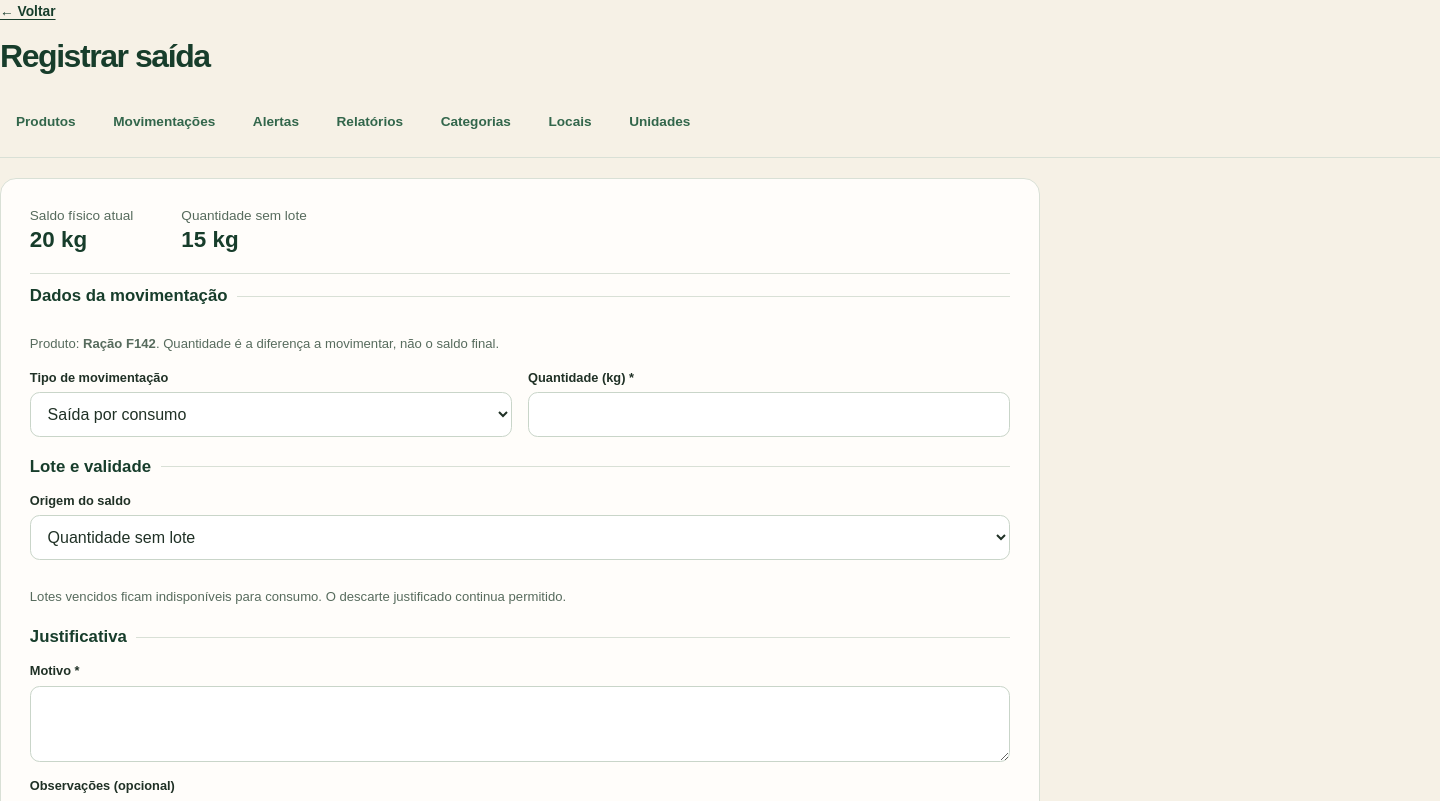
Test: bloqueia consumo vencido e permite descarte por lote
Step 1. Type "1" into the field labelled "Quantidade (kg) *" → (769, 414), box [528, 392, 1010, 437]
Step 2. Type "Conferência física" into the text box labelled "Motivo *" → (520, 724), box [30, 686, 1010, 762]
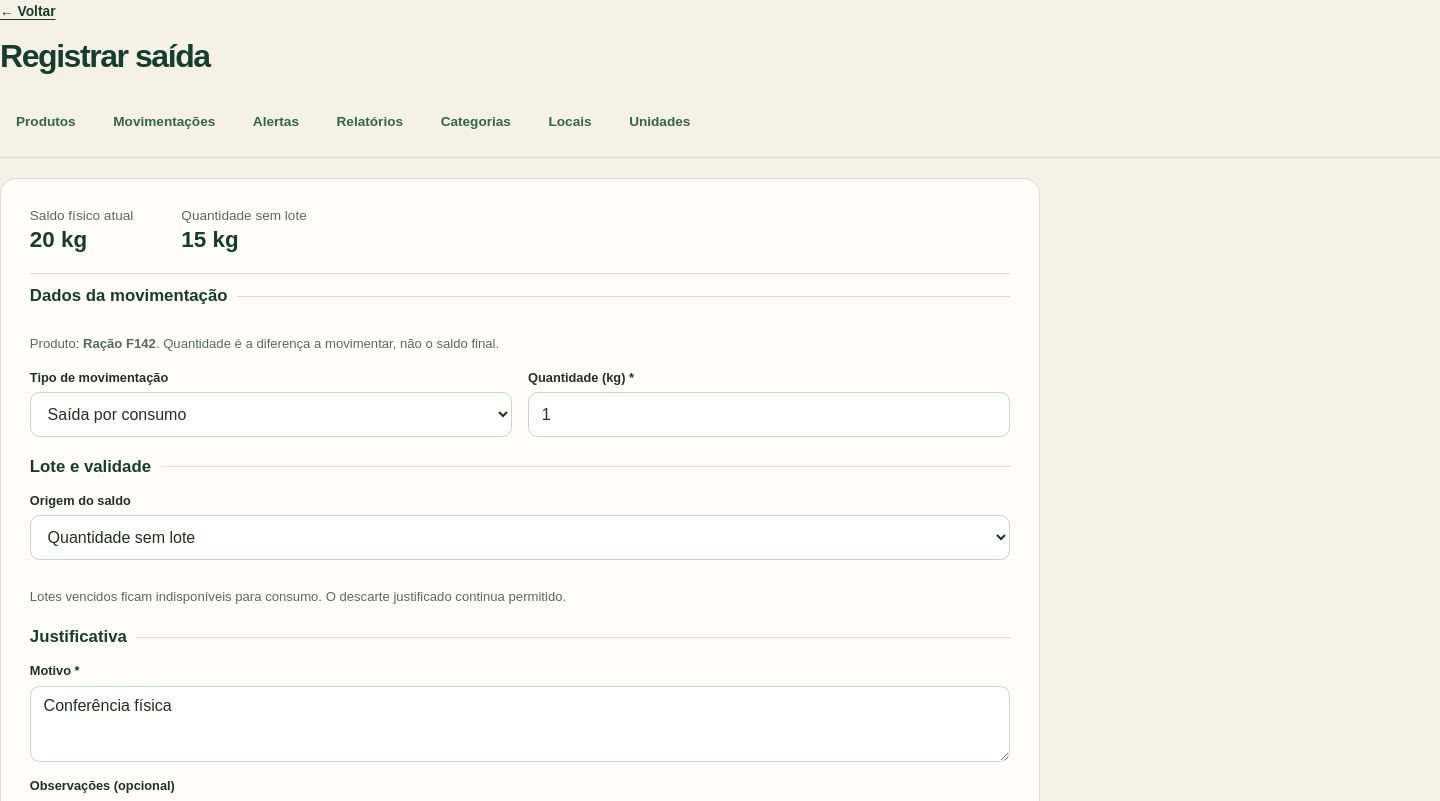
Step 3. Select "Selecionar lote registrado" in the dropdown labelled "Origem do saldo" → (520, 538), box [30, 515, 1010, 560]
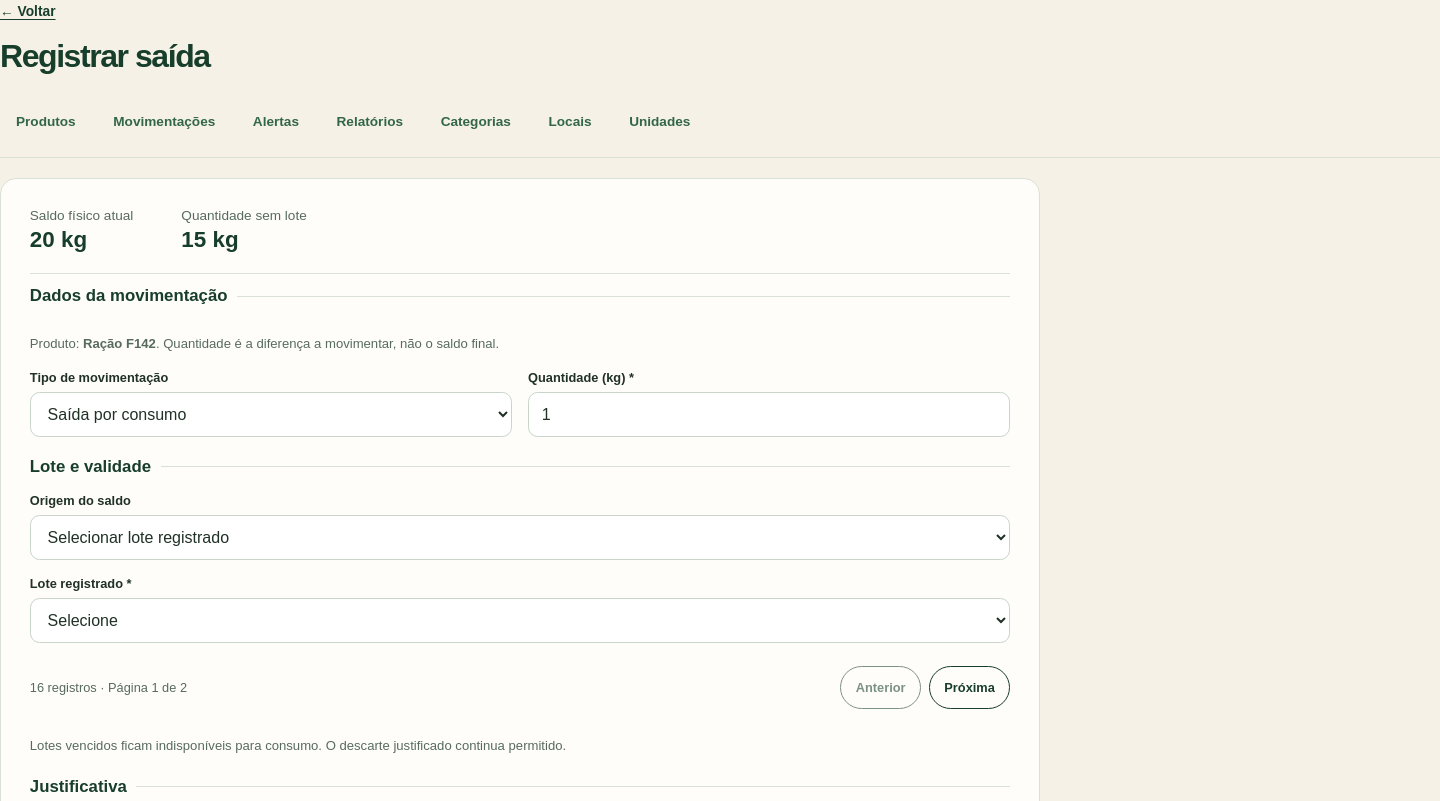
Expected: the dropdown labelled "Lote registrado *" is shown, [30, 598, 1010, 643]
Step 4. Select "Saída por descarte" in the dropdown labelled "Tipo de movimentação" → (271, 414), box [30, 392, 512, 437]
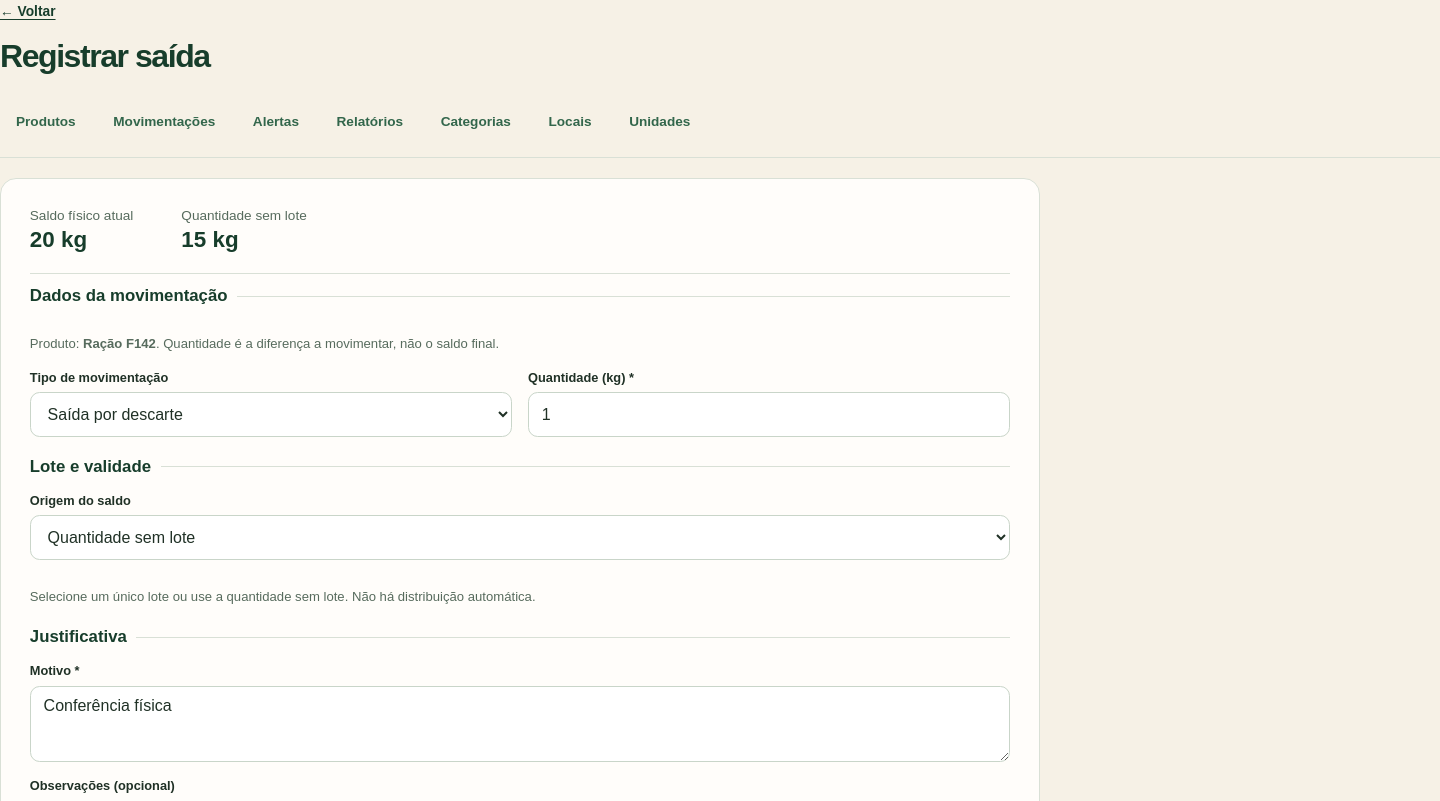
Step 5. Select "Selecionar lote registrado" in the dropdown labelled "Origem do saldo" → (520, 538), box [30, 515, 1010, 560]
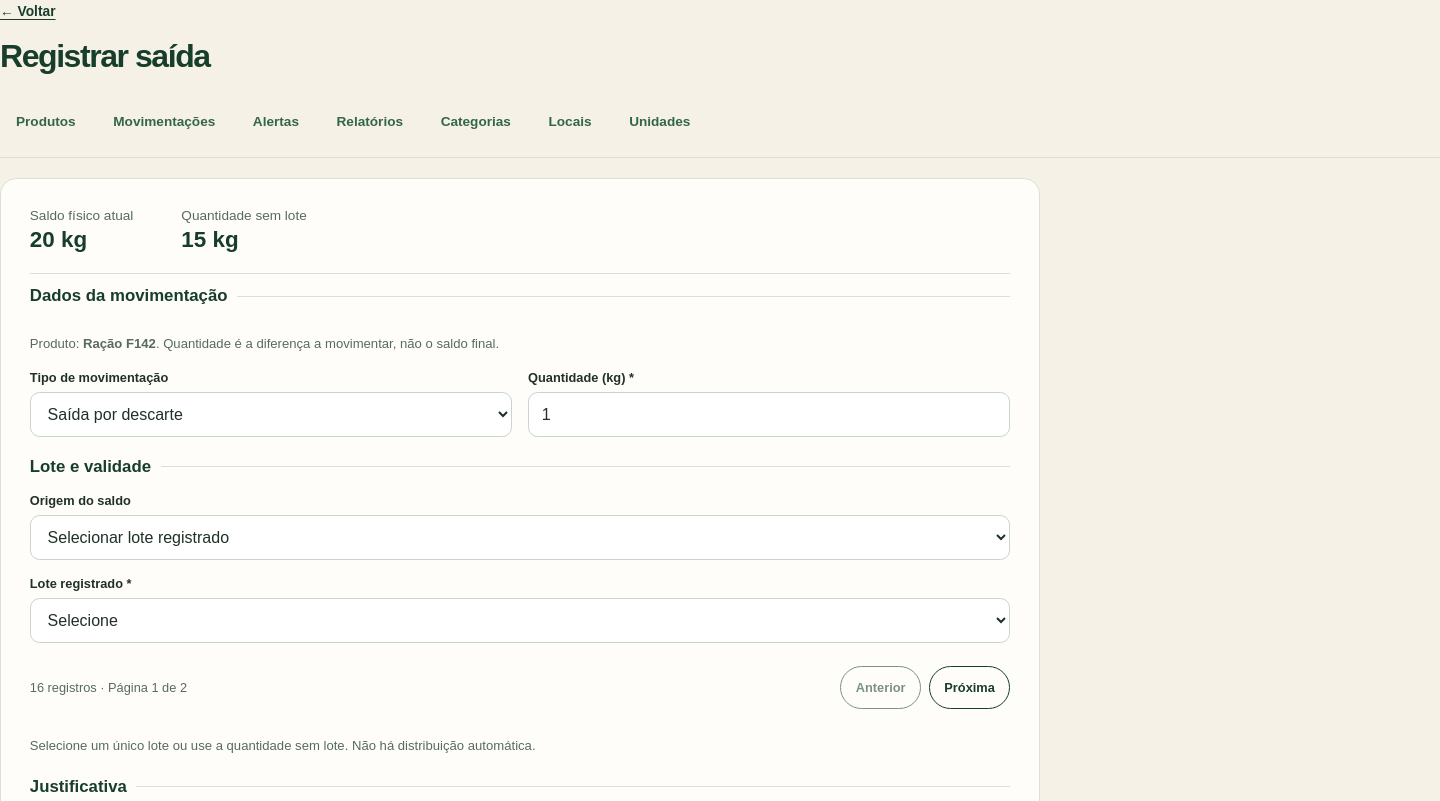
Step 6. Select "VENCIDO · 2 kg · 01/01/2026 · vencido" in the dropdown labelled "Lote registrado *" → (520, 620), box [30, 598, 1010, 643]
(page scrolled)
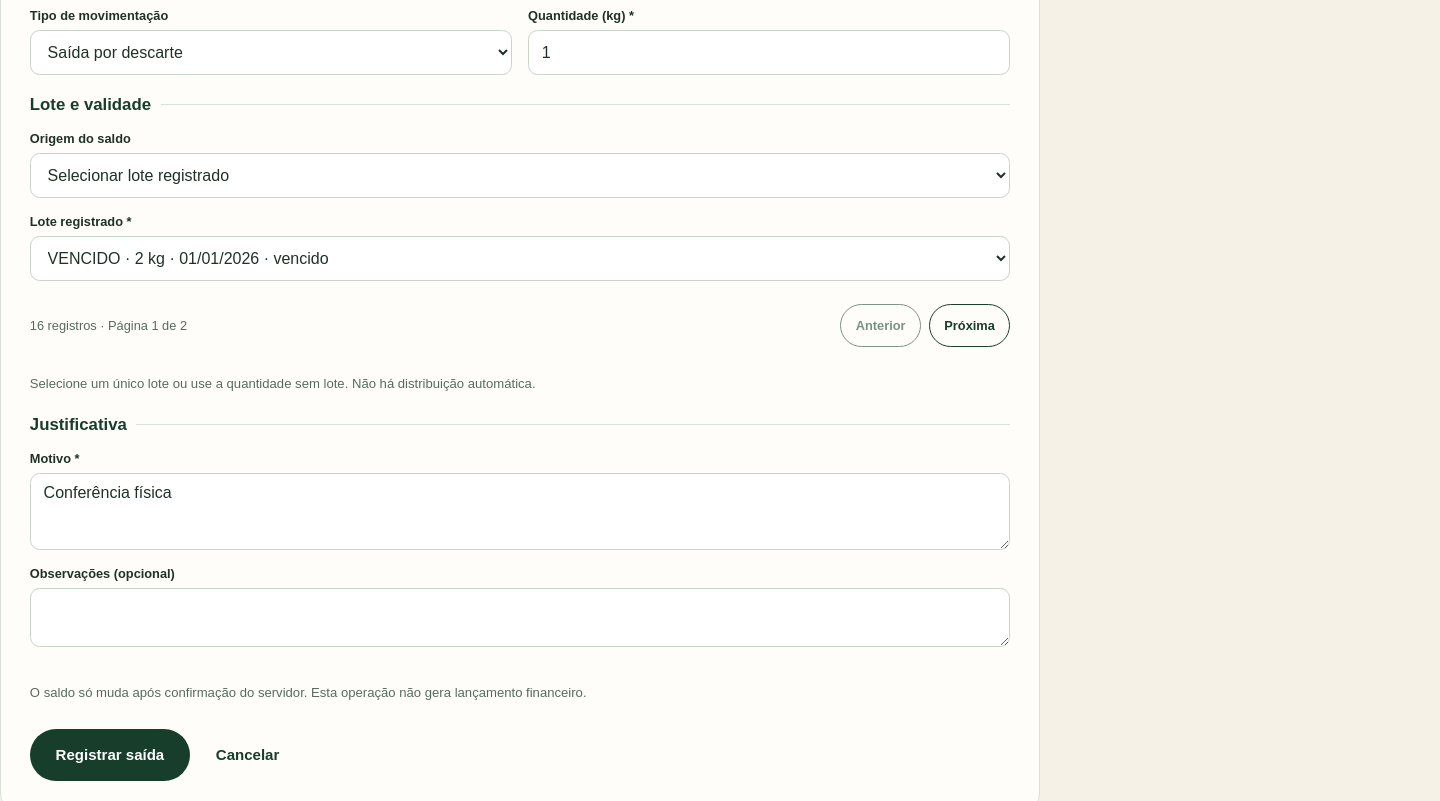
Step 7. Click the button "Registrar saída" → (110, 755), box [30, 729, 190, 781]
(page scrolled)
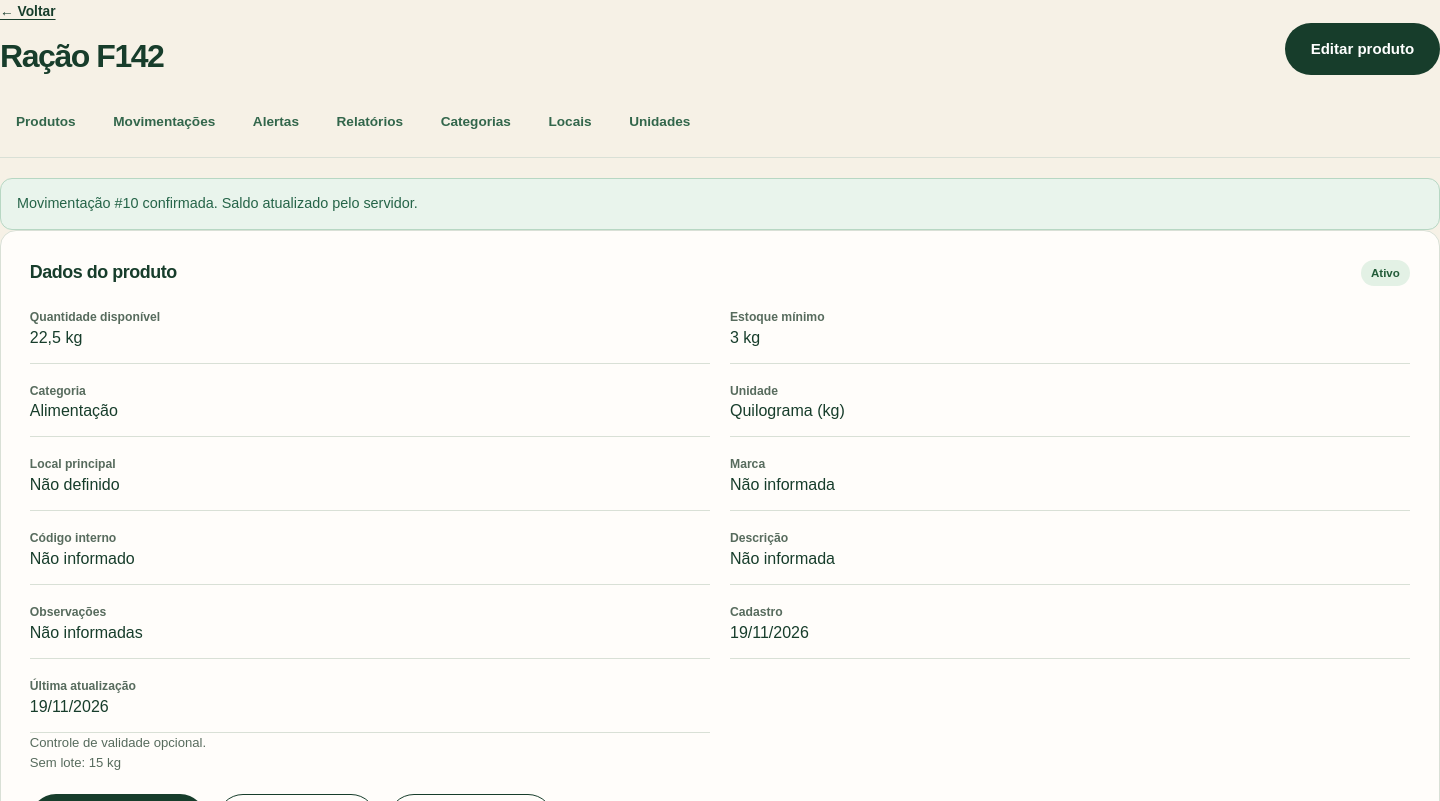
Expected: the text "Movimentação #10 confirmada. Saldo atualizado pelo servidor." is shown, [0, 178, 1439, 230]
